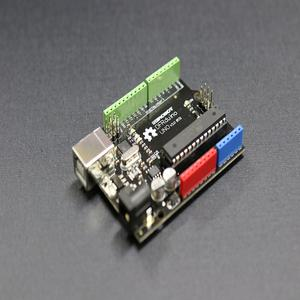duino: (63, 38, 255, 252)
